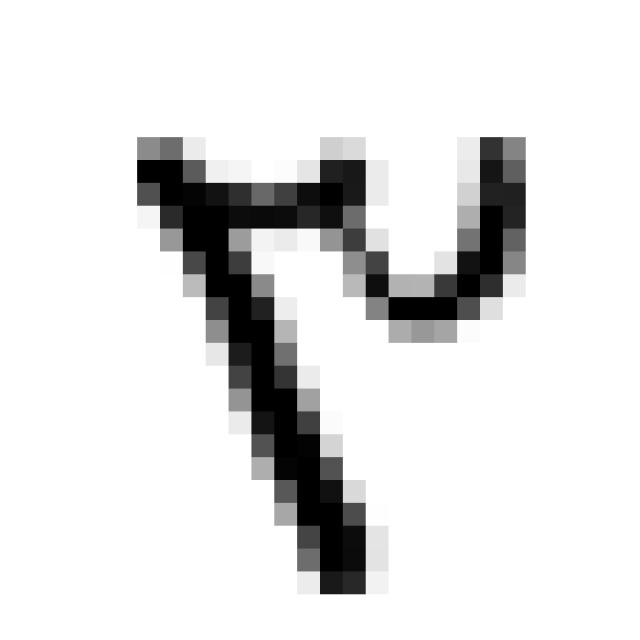3 -three-: (116, 102, 542, 624)
